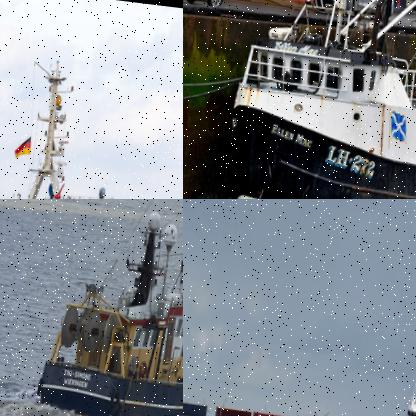Fishing Boat: (216, 0, 415, 198), (34, 199, 182, 415)
Merchant Ship: (183, 339, 415, 415)
Patrol Boat: (0, 41, 182, 198)
